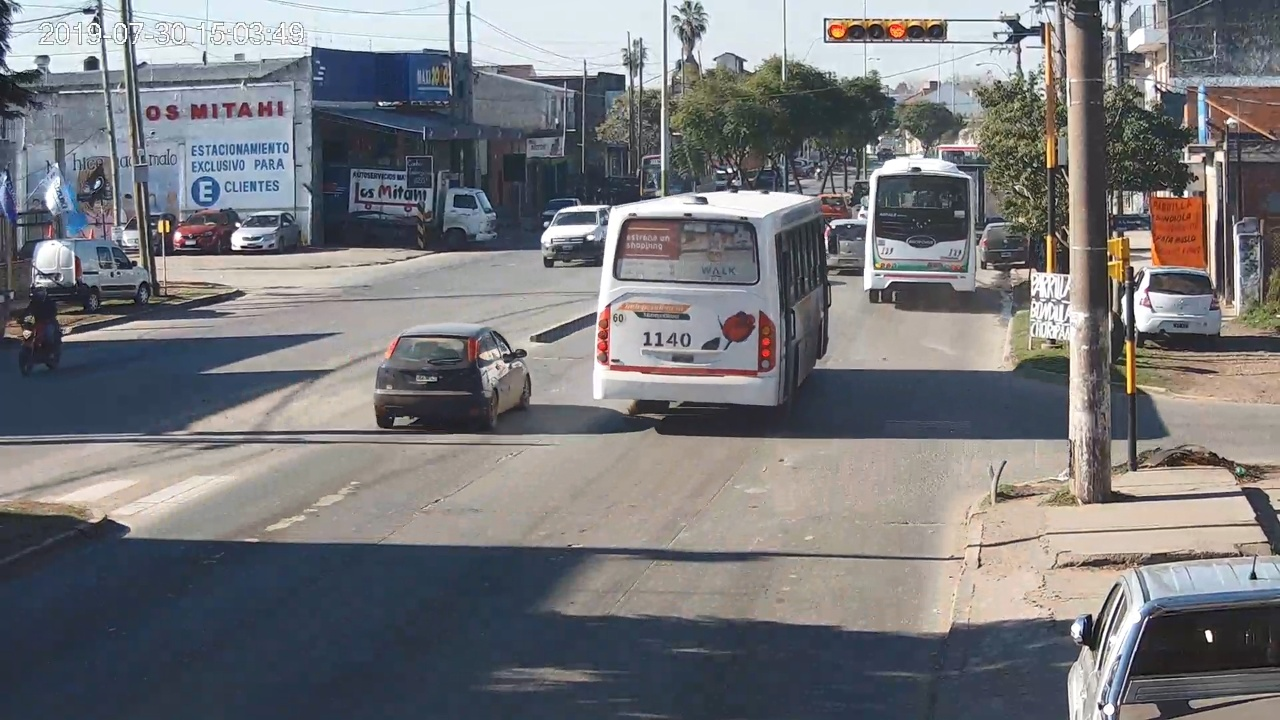bus: (593, 189, 837, 418), (864, 160, 976, 303)
car: (1066, 556, 1280, 718), (374, 324, 532, 426)
